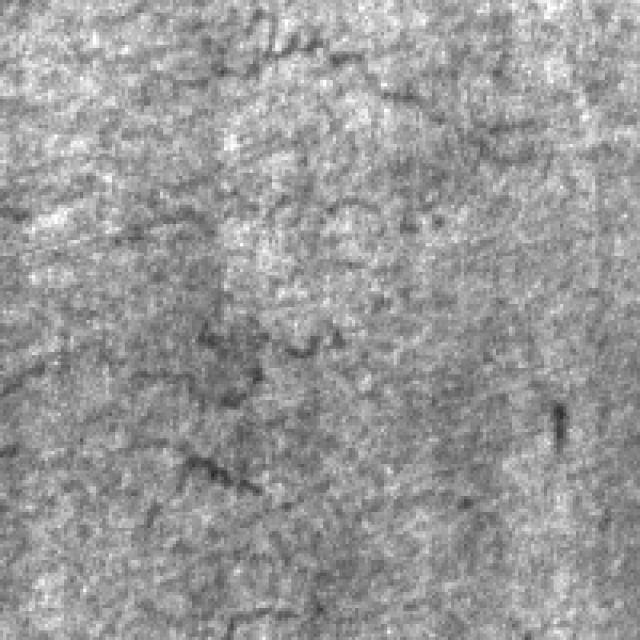crazing: (106, 3, 554, 253), (102, 294, 342, 637)
